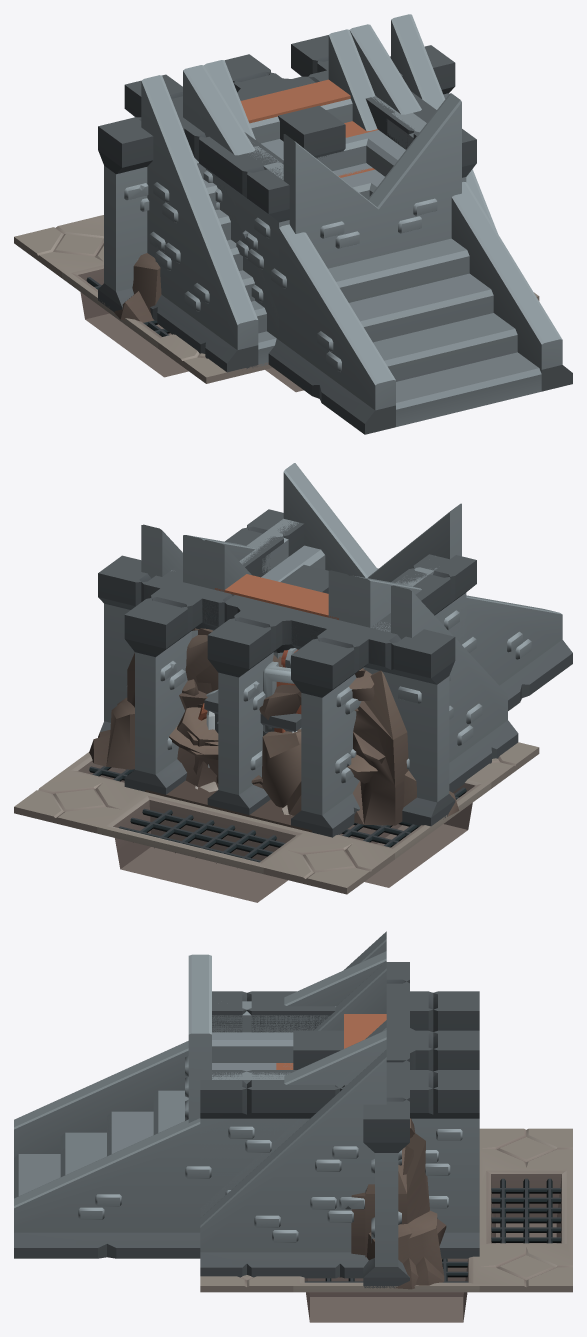
File: dungeonkit.glb
3 renders of one model, top to bottom at view 1: azimuth 30°, elevation 25°; view 2: azimuth 150°, elevation 25°; view 3: azimuth 270°, elevation 25°, orthographic. The views are drawn at different scales.
Visible parts, largest first — view 1: dungeon_stairs_long, dungeon_stairs_wide, dungeon_stairs_wall_right, dungeon_wall_doorway_tsplit, dungeon_stairs_wall_left, dungeon_stairs_walled, dungeon_floor_tile_extralarge_grates, dungeon_stairs_long_modular_center, dungeon_stairs_narrow, dungeon_stairs_long_modular_right, dungeon_wall_doorway_sides, dungeon_stairs_wood (+5 smaller); view 2: dungeon_floor_tile_extralarge_grates, dungeon_wall_doorway_sides, dungeon_wall_doorway_tsplit, dungeon_rubble_large, dungeon_stairs_wide, dungeon_wall_crossing, dungeon_stairs_long, dungeon_stairs_wall_right, dungeon_rubble_half, dungeon_stairs_walled, dungeon_stairs_wall_left, dungeon_stairs_narrow (+7 smaller); view 3: dungeon_stairs_long, dungeon_floor_tile_extralarge_grates, dungeon_stairs_wide, dungeon_wall_doorway_sides, dungeon_stairs_walled, dungeon_wall_doorway_tsplit, dungeon_stairs_wall_left, dungeon_rubble_half, dungeon_wall_crossing, dungeon_stairs_wall_right, dungeon_stairs_narrow, dungeon_rubble_large (+5 smaller).
Part boxes in pixels (x1,y1,x2,y2): dungeon_stairs_long: (183,24,572,434); dungeon_stairs_wide: (141,14,497,372); dungeon_stairs_wall_right: (239,72,461,266); dungeon_wall_doorway_tsplit: (98,45,455,311); dungeon_stairs_wall_left: (182,70,423,268); dungeon_stairs_walled: (185,91,476,342); dungeon_floor_tile_extralarge_grates: (14,215,539,392); dungeon_stairs_long_modular_center: (259,101,510,415); dungeon_stairs_narrow: (204,29,377,139); dungeon_stairs_long_modular_right: (340,99,541,398); dungeon_wall_doorway_sides: (124,35,427,202); dungeon_stairs_wood: (240,79,378,177); dungeon_floor_tile_extralarge_grates: (14,742,539,902); dungeon_wall_doorway_sides: (124,555,421,837); dungeon_wall_doorway_tsplit: (98,554,455,826); dungeon_rubble_large: (98,655,459,825); dungeon_stairs_wide: (141,524,518,792); dungeon_wall_crossing: (207,598,296,814); dungeon_stairs_long: (188,535,572,710); dungeon_stairs_wall_right: (183,463,377,646); dungeon_rubble_half: (89,628,218,786); dungeon_stairs_walled: (225,509,476,644); dungeon_stairs_wall_left: (181,503,461,646); dungeon_stairs_narrow: (203,540,349,622); dungeon_stairs_long: (14,951,386,1258); dungeon_floor_tile_extralarge_grates: (200,1128,572,1322); dungeon_stairs_wide: (200,931,386,1278); dungeon_wall_doorway_sides: (293,991,479,1258); dungeon_stairs_walled: (200,991,346,1216); dungeon_wall_doorway_tsplit: (293,962,409,1288); dungeon_stairs_wall_left: (185,954,409,1097); dungeon_rubble_half: (365,1118,446,1285); dungeon_wall_crossing: (386,1030,479,1071); dungeon_stairs_wall_right: (185,1033,409,1122); dungeon_stairs_narrow: (314,961,386,1038); dungeon_rubble_large: (351,1145,418,1289).
Size of the model in its own units: 4.06 by 3.05 by 6.
Materials: 1 (1 with a texture image).
